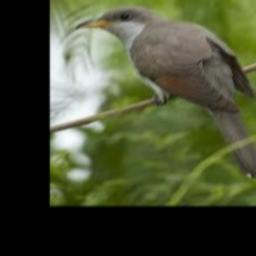Cuckoo: (77, 6, 256, 181)
